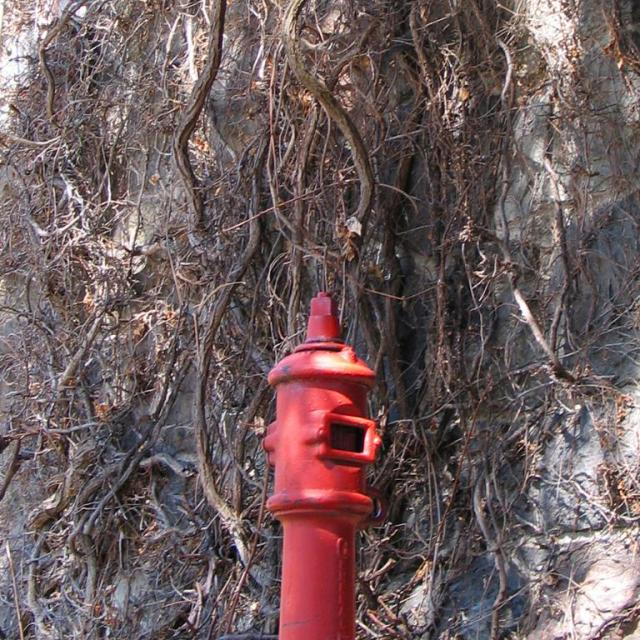fire_hydrant: (260, 289, 383, 639)
